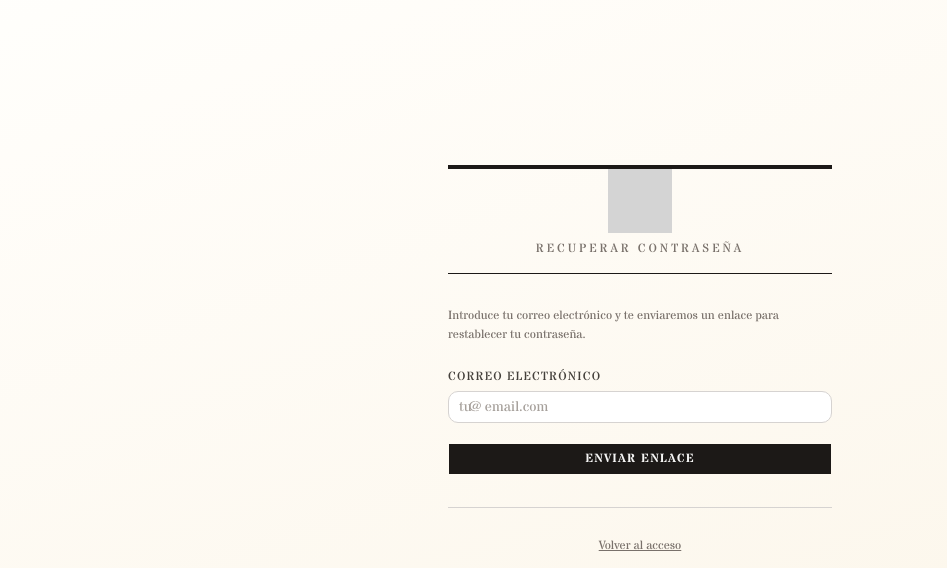
ForgotPassword › shows loading state during submission
The width and height of the screenshot is (947, 568).
In the field with placeholder "tu@email.com": (640, 406) [448,390,832,422], type "user@test.com"
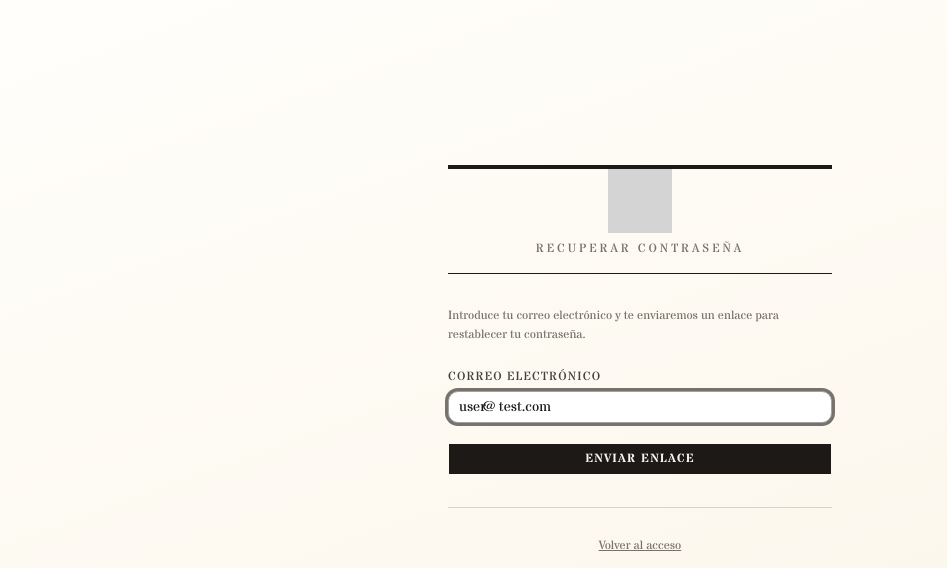
Click the button "Enviar enlace": (640, 458) [448,442,832,474]
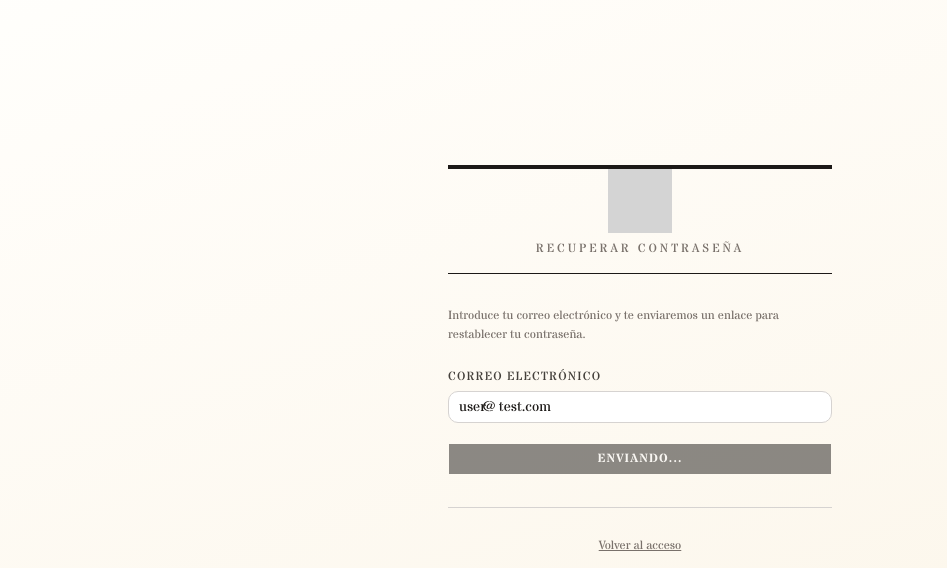
Expected: the button "Enviando..." is disabled, [448,442,832,474]
